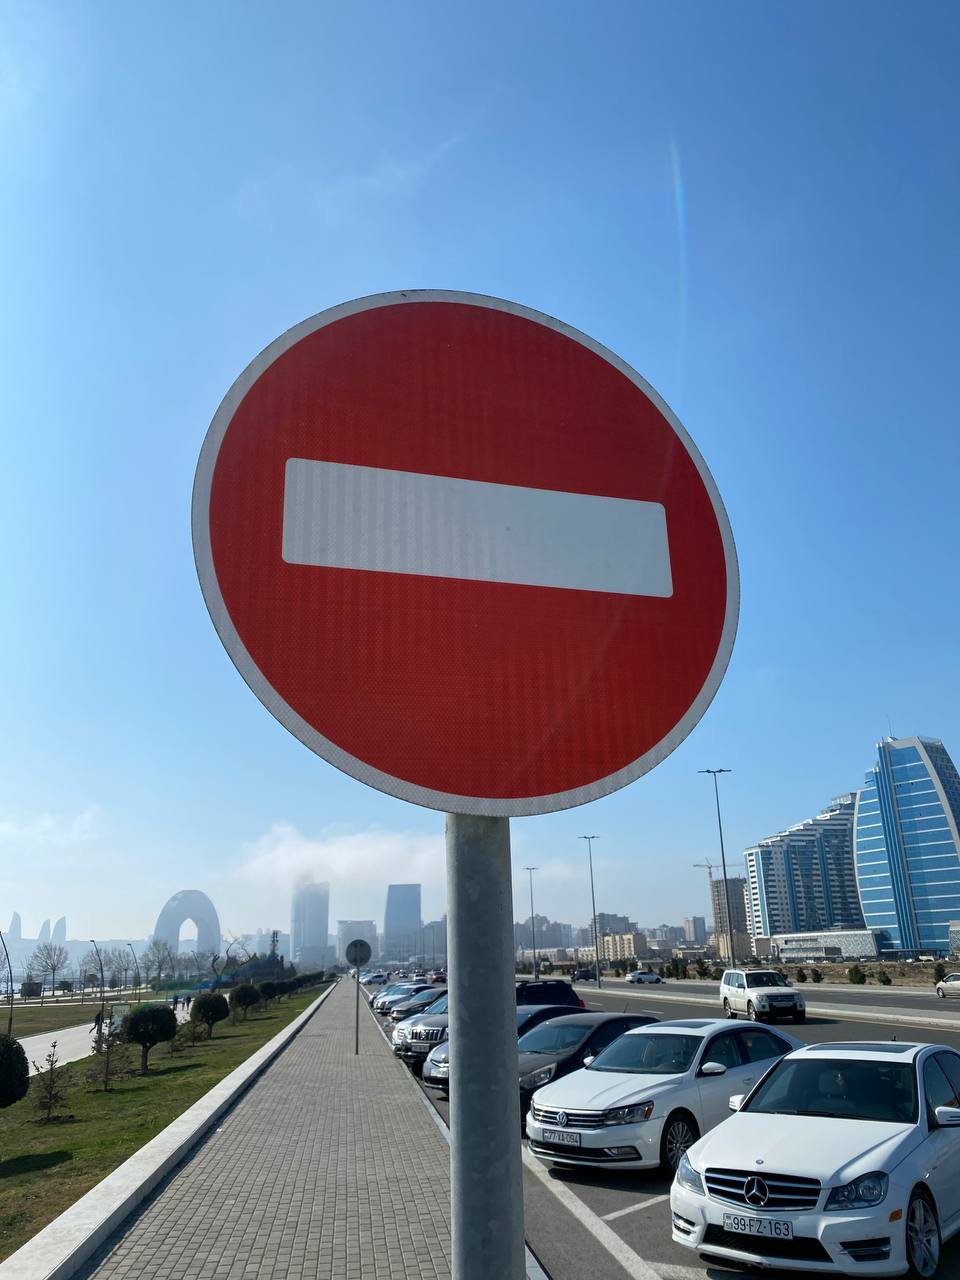No Entry: (188, 287, 742, 819)
